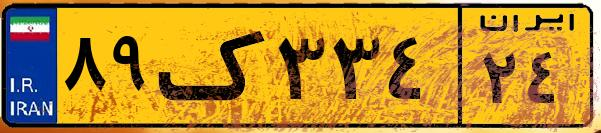2: (475, 38, 525, 113)
3: (270, 28, 330, 110), (330, 28, 385, 110)
4: (385, 28, 445, 110), (525, 38, 570, 115)
8: (57, 26, 110, 100)
9: (110, 28, 158, 98)
ک: (158, 12, 270, 120)
